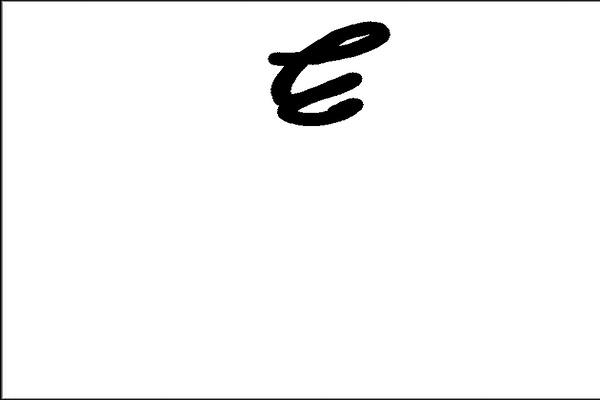E: (264, 17, 393, 131)
